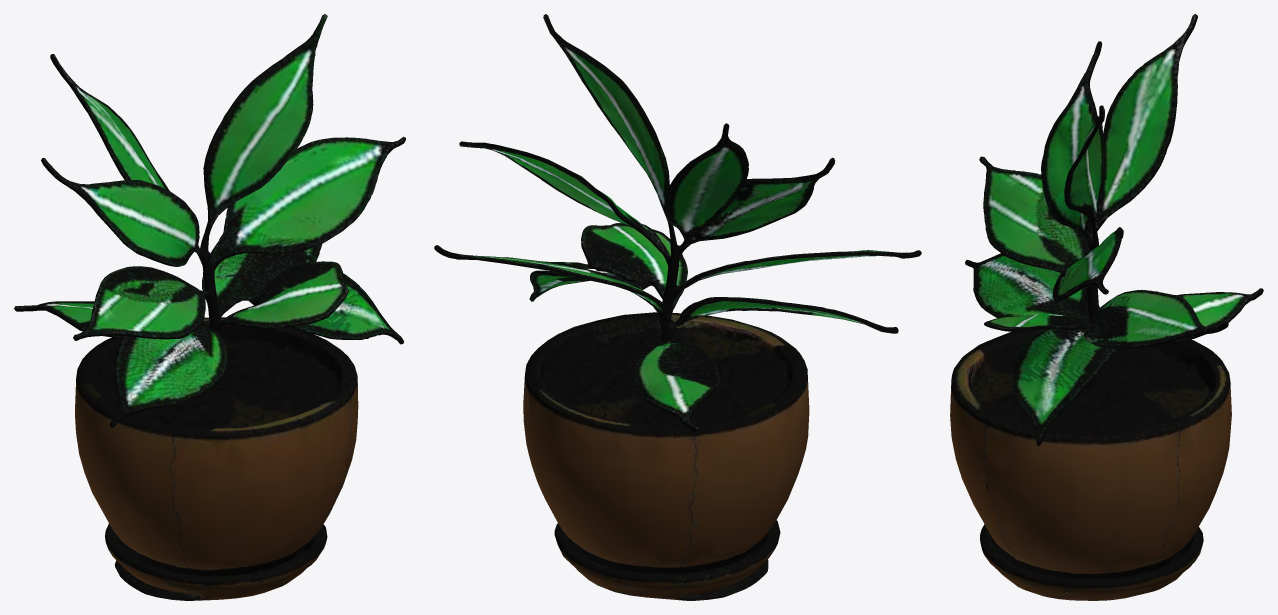
The model's file is sci-fi-planter-b.collider.glb.
3 renders of one model, left to right at view 1: azimuth 30°, elevation 25°; view 2: azimuth 150°, elevation 25°; view 3: azimuth 270°, elevation 25°, orthographic.
Parts seen in each view (by area): view 1: temp_mesh.ply; view 2: temp_mesh.ply; view 3: temp_mesh.ply.
Boxes of the visible parts, <box> form: temp_mesh.ply: <box>14,14,405,600</box>; temp_mesh.ply: <box>434,14,921,600</box>; temp_mesh.ply: <box>950,14,1263,600</box>.
Size of the model in its own units: 1.57 by 1.97 by 1.08.
Materials: 1 (1 with a texture image).
